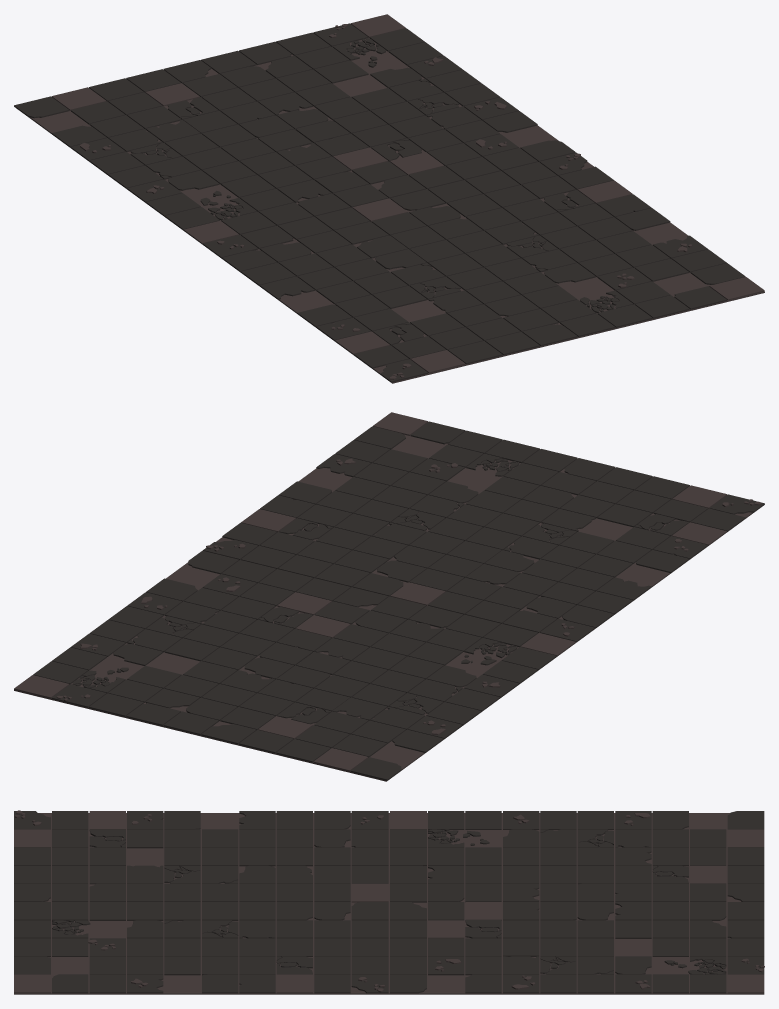
The model's file is GroundBattle01.fbx.
The picture shows the model from 3 angles, top to bottom: view 1: azimuth 30°, elevation 25°; view 2: azimuth 150°, elevation 25°; view 3: azimuth 270°, elevation 25°; orthographic projection.
Visible parts, largest first — view 1: StoneSlabs, Ground, StoneSlabsSmall; view 2: StoneSlabs, Ground, StoneSlabsSmall; view 3: StoneSlabs, Ground, StoneSlabsSmall.
Part boxes in pixels (box(x1,y1,x2,y2)): StoneSlabs: box(14, 14, 764, 382); Ground: box(16, 37, 764, 383); StoneSlabsSmall: box(80, 24, 692, 379); StoneSlabs: box(14, 412, 764, 780); Ground: box(14, 434, 763, 781); StoneSlabsSmall: box(56, 458, 761, 734); StoneSlabs: box(14, 811, 764, 993); Ground: box(14, 813, 764, 994); StoneSlabsSmall: box(14, 810, 764, 992).
Size of the model in its own units: 1603 by 15 by 2803.
